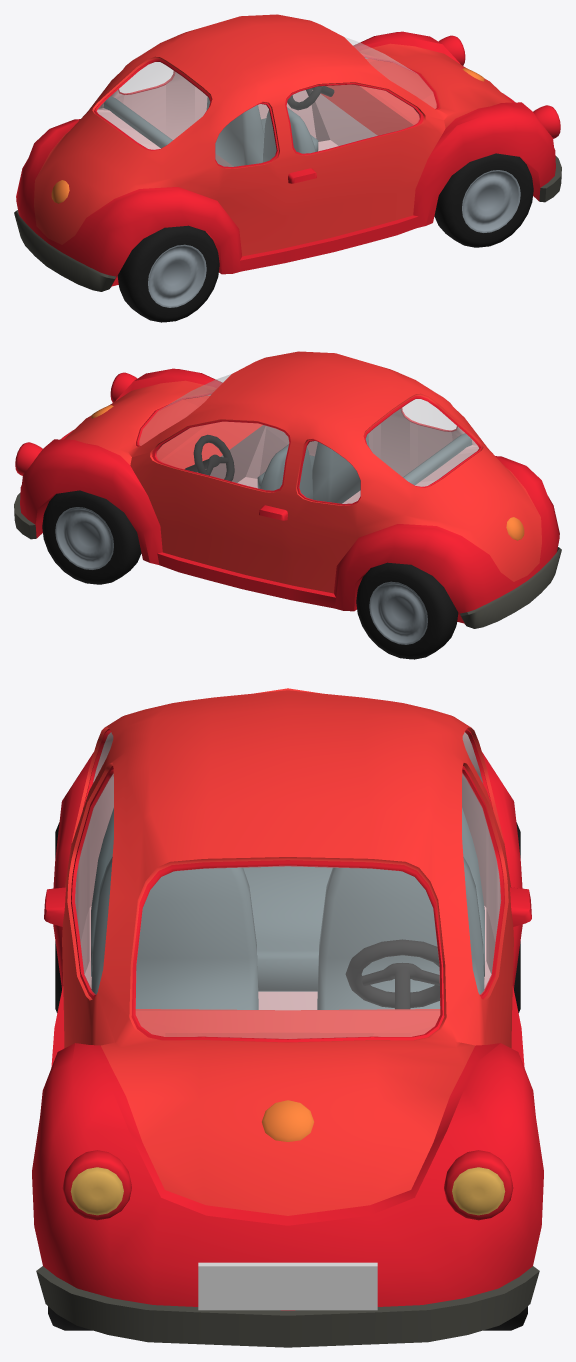
The model's file is car_1.glb.
The picture shows the model from 3 angles, top to bottom: view 1: azimuth 30°, elevation 25°; view 2: azimuth 150°, elevation 25°; view 3: azimuth 270°, elevation 25°; orthographic projection. The views are drawn at different scales.
Parts seen in each view (by area): view 1: Transport5; view 2: Transport5; view 3: Transport5.
Part boxes in pixels (<box>): Transport5: <box>14,14,561,322</box>; Transport5: <box>14,351,561,659</box>; Transport5: <box>32,688,543,1347</box>.
Size of what is drawn, in the model's own units: 2.48 by 1.01 by 1.14.
Materials: 2 (2 with a texture image).
